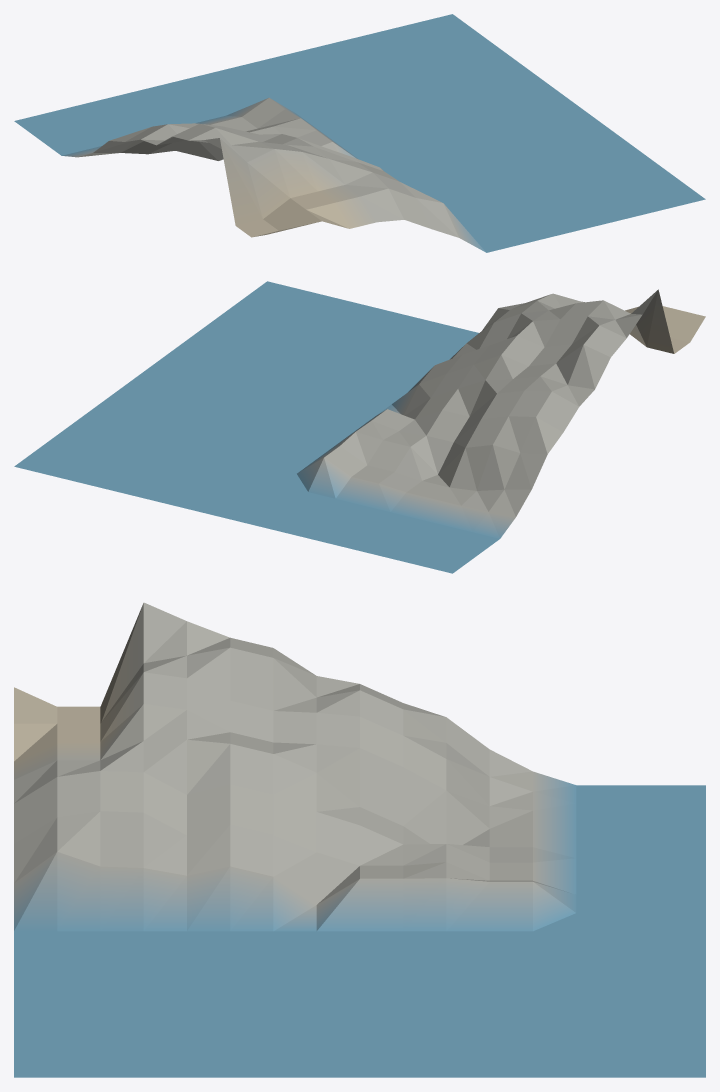
3 views of the same model, one above another, from view 1: azimuth 30°, elevation 25°; view 2: azimuth 150°, elevation 25°; view 3: azimuth 270°, elevation 25° (orthographic). The views are drawn at different scales.
Size of the model in its own units: 32 by 9.33 by 32.
